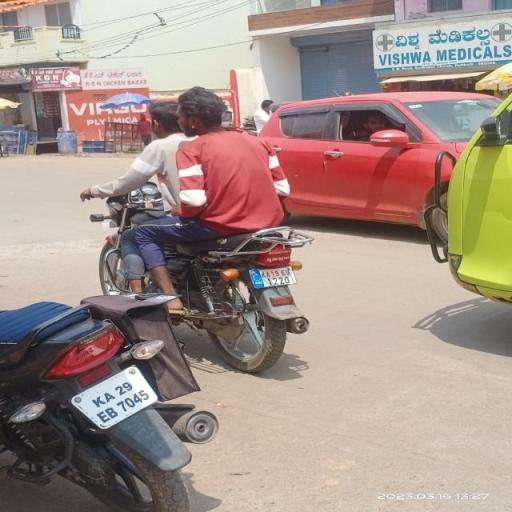bike: (67, 84, 318, 378)
numberplate: (250, 259, 299, 292)
withouthelmet: (178, 92, 223, 136), (149, 104, 182, 135)
